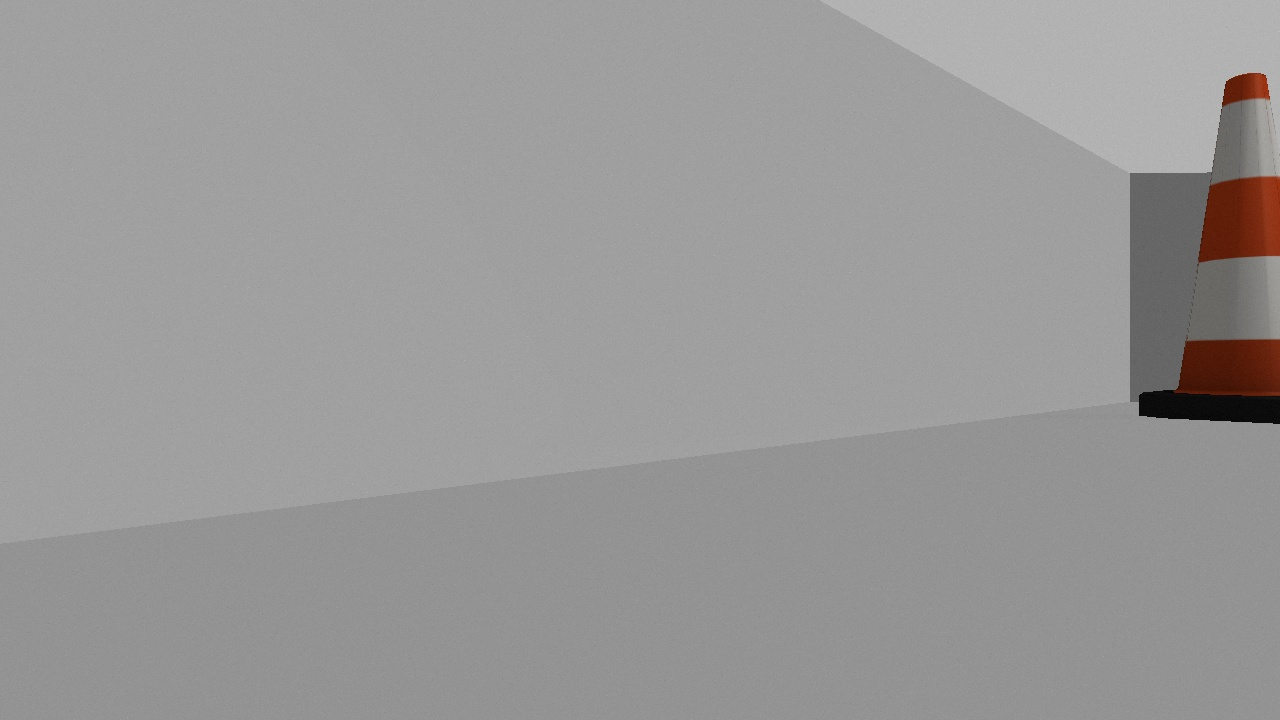barricade: (1137, 72, 1280, 424)
